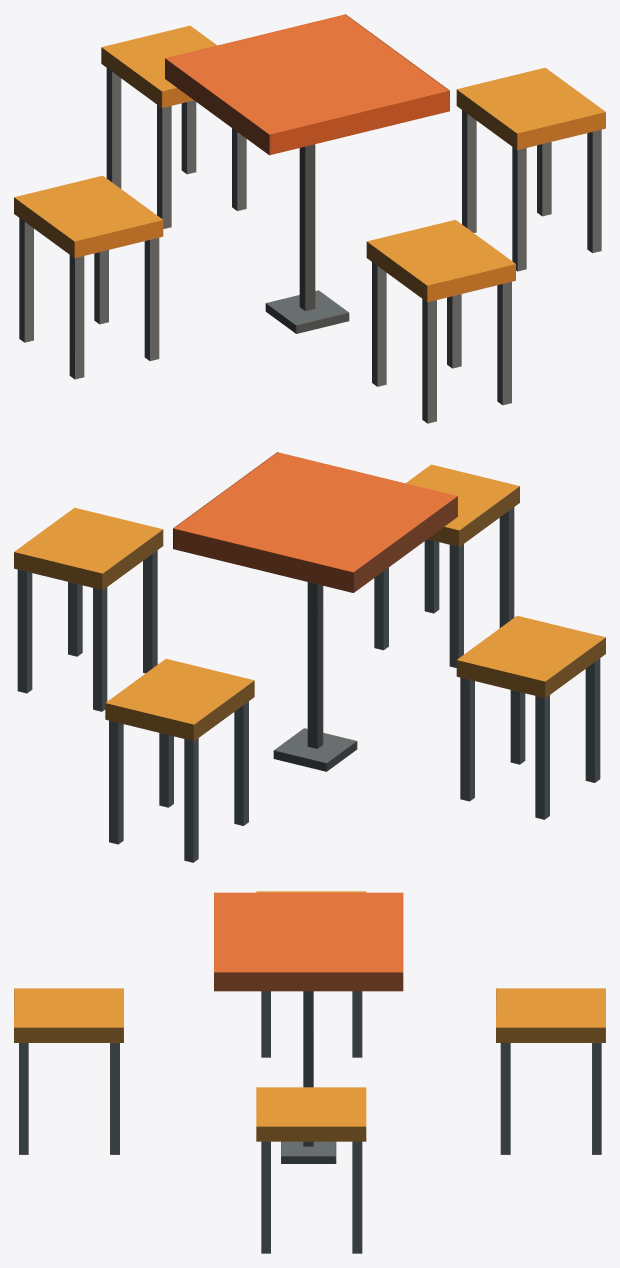
File: table.glb
The picture shows the model from 3 angles, top to bottom: view 1: azimuth 30°, elevation 25°; view 2: azimuth 150°, elevation 25°; view 3: azimuth 270°, elevation 25°; orthographic projection. The views are drawn at different scales.
Parts seen in each view (by area): view 1: Table; view 2: Table; view 3: Table.
Part boxes in pixels (left/top/right/bottom): Table: left=14, top=14, right=605, bottom=423; Table: left=14, top=452, right=605, bottom=862; Table: left=14, top=891, right=605, bottom=1253.
Bounding box in the file's own units: 11.97 × 5.21 × 12.71.
2 materials, 2 textured.
